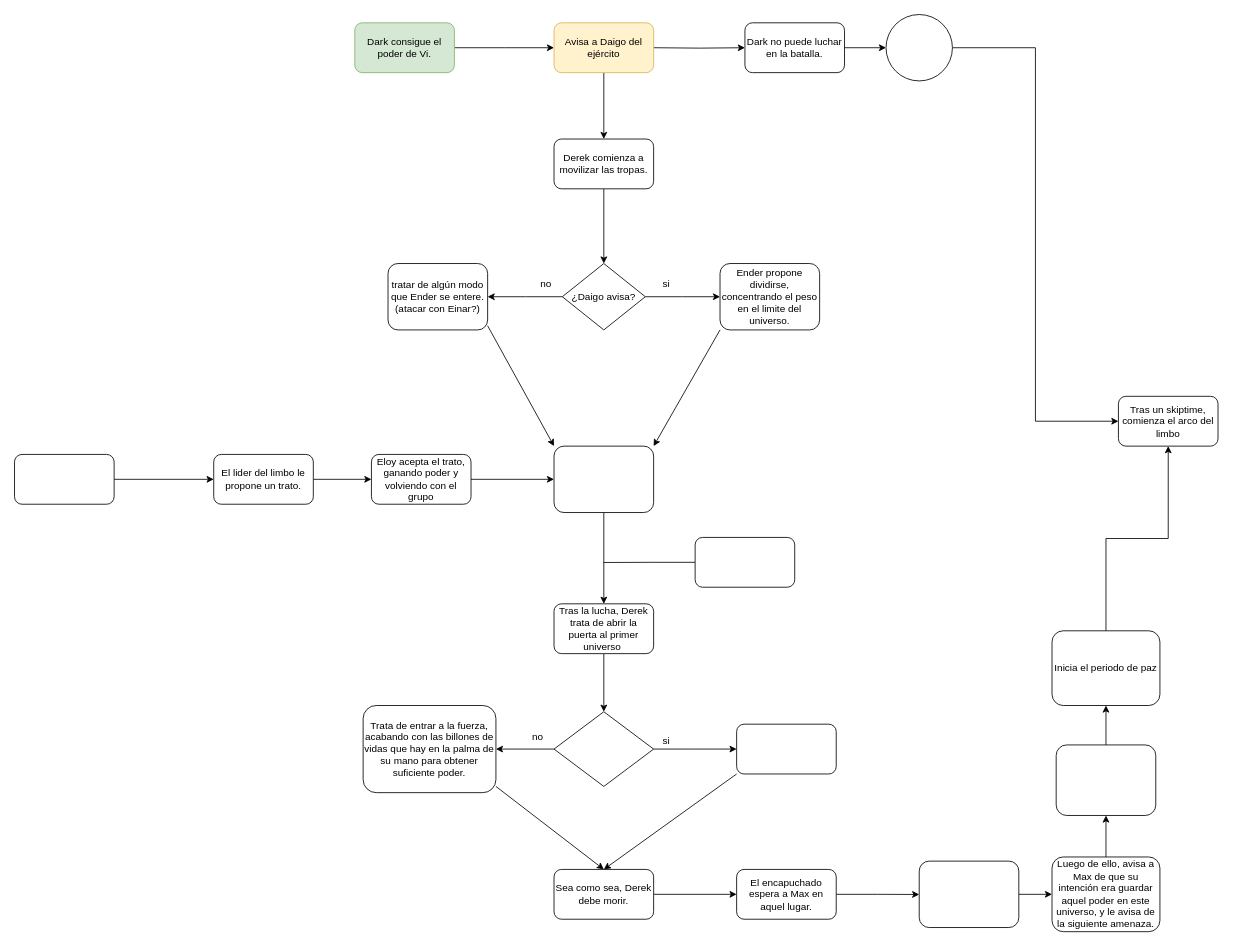
Image size: 1233x946. Some labels were removed from this diagram. Each missing label, with the centre of its shape:
"Antes de ello, Eloy debe hablar con Rachel" belongs at point (744, 562).
"Eloy ya es capaz de ver en el limbo" belongs at point (64, 479).
"Entra sin daño, dejando la puerta abierta." belongs at point (786, 748).
"Fin de dark hasta el arco de eloy" belongs at point (918, 47).
"se movilizan para luchar" belongs at point (603, 479).
"Tiene todos los poderes?" belongs at point (603, 748).
"Todos los poderes se quedan dentro del primer universo." belongs at point (1105, 779).
"Tras hablar con todos, avisa de que la existencia está a salvo." belongs at point (968, 894).
